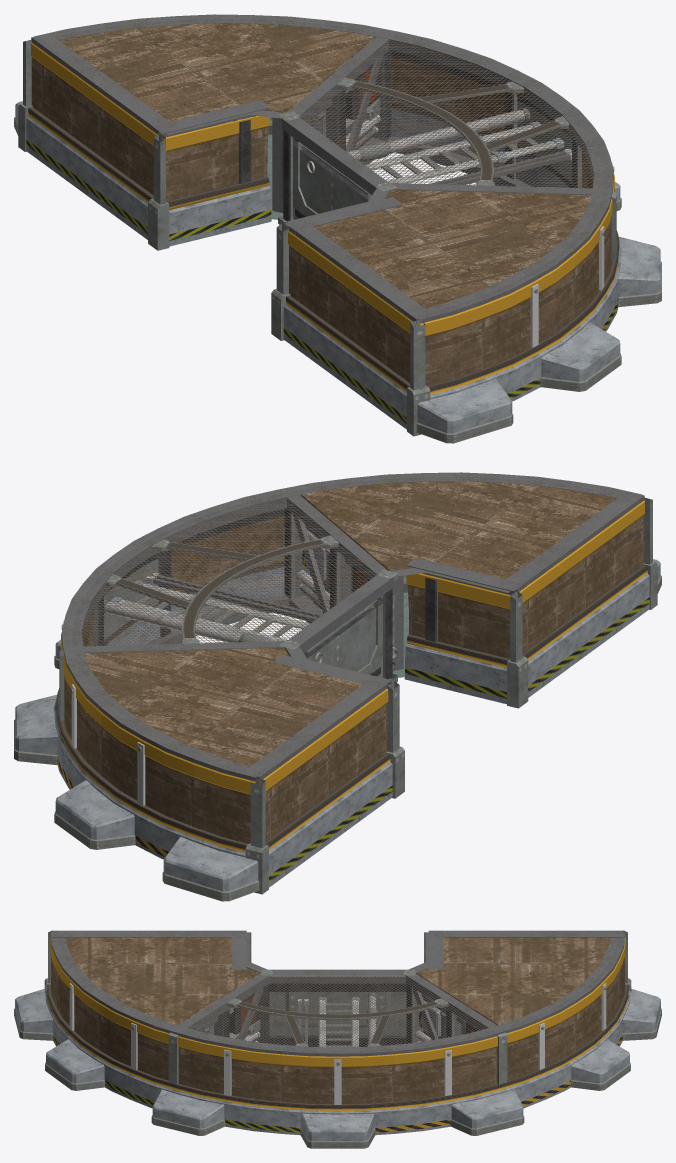
Rendered from Ob_PlatformHalfWheel_RC.fbx.
3 views of the same model, one above another, from view 1: azimuth 30°, elevation 25°; view 2: azimuth 150°, elevation 25°; view 3: azimuth 270°, elevation 25° (orthographic). The views are drawn at different scales.
Parts seen in each view (by area): view 1: Ob_PlatformHalfWheel_RC; view 2: Ob_PlatformHalfWheel_RC; view 3: Ob_PlatformHalfWheel_RC.
Part boxes in pixels (x1,y1,x2,y2): Ob_PlatformHalfWheel_RC: [14, 14, 661, 443]; Ob_PlatformHalfWheel_RC: [14, 472, 661, 901]; Ob_PlatformHalfWheel_RC: [14, 930, 661, 1148].
Size of the model in its own units: 2720 by 746 by 5282.
